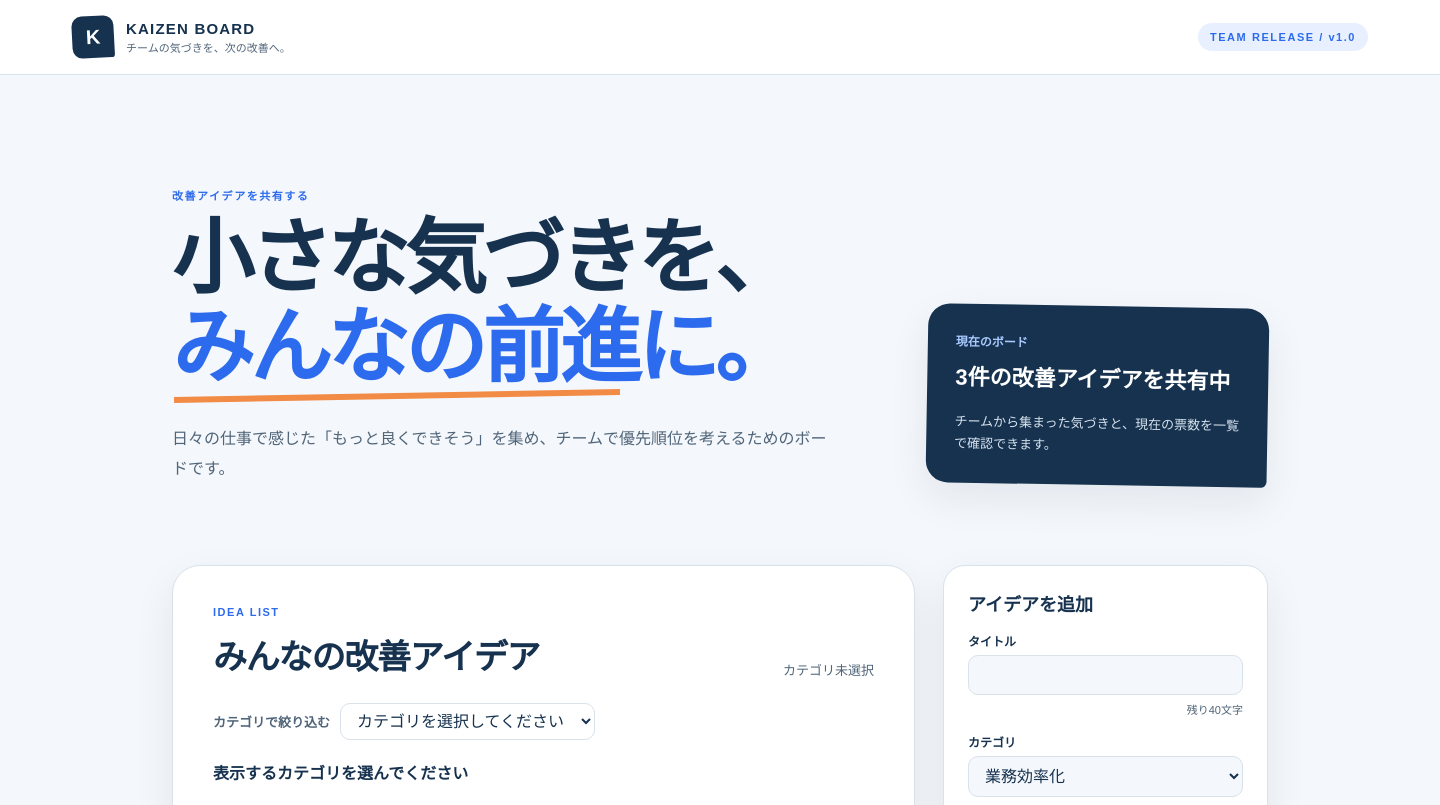
スターターアプリ › すべてを選ぶと、初期アイデア3件を表示する
Select "すべて" in the dropdown labelled "カテゴリで絞り込む" at (468, 721), box [340, 703, 595, 740]
(page scrolled)
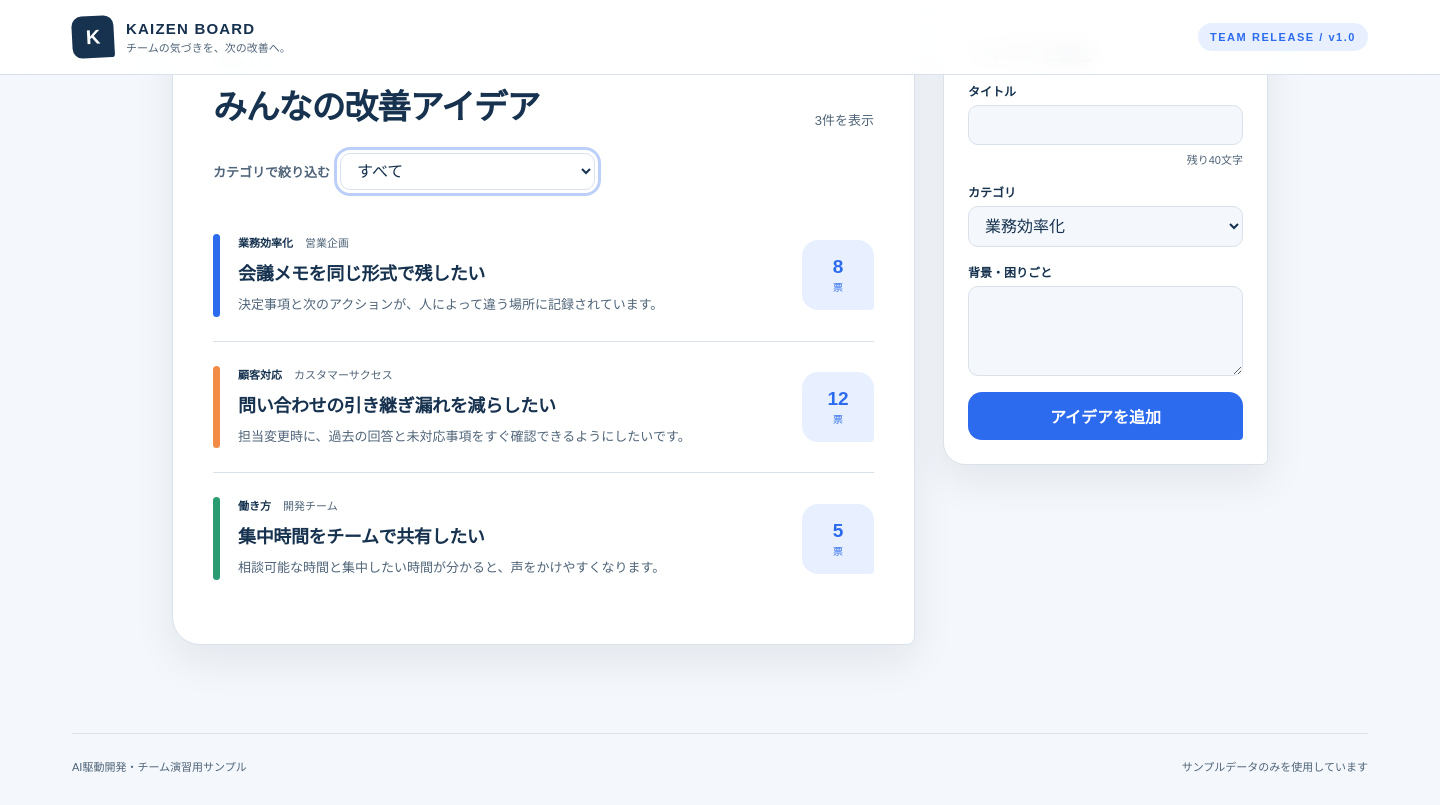
Result: the heading "会議メモを同じ形式で残したい" is shown at [238, 264, 485, 284]
Result: the heading "問い合わせの引き継ぎ漏れを減らしたい" is shown at [238, 396, 556, 416]
Result: the heading "集中時間をチームで共有したい" is shown at [238, 527, 484, 547]
